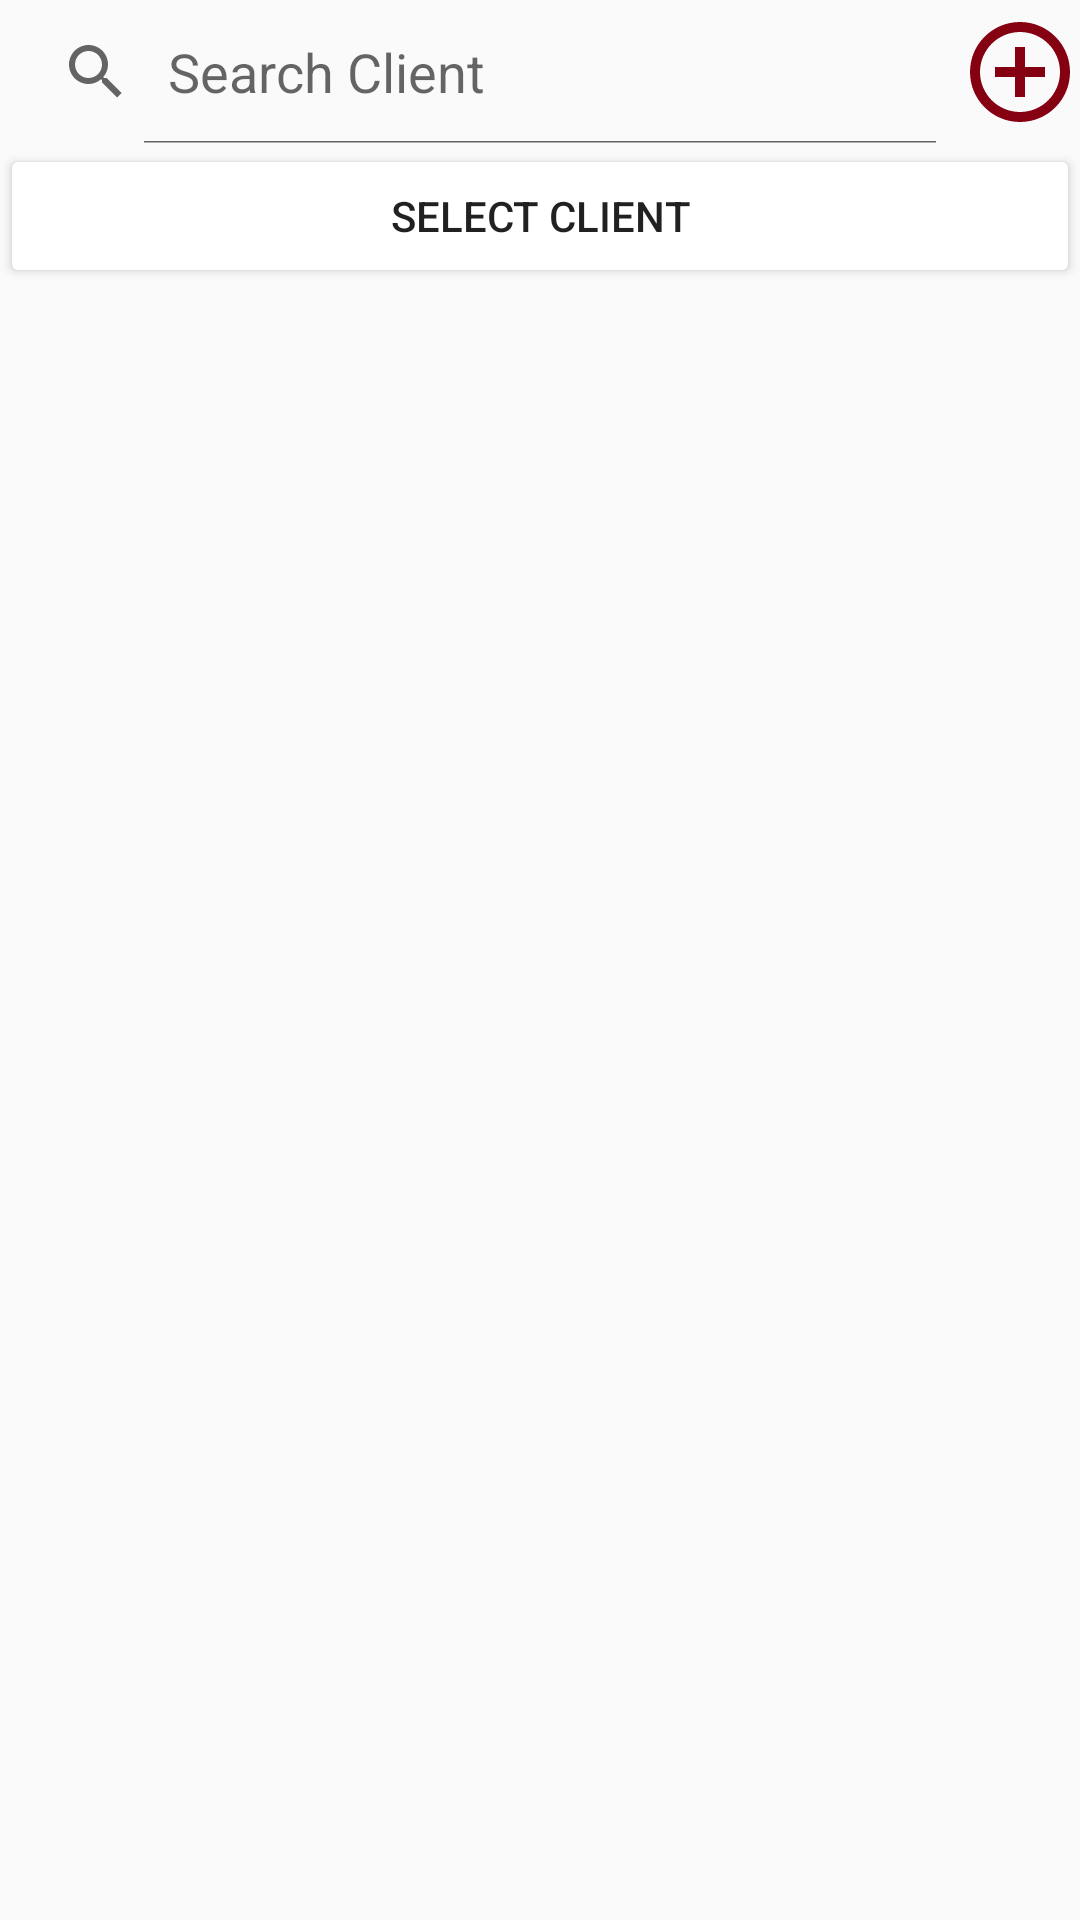

Screen size 1080 x 1920. Icon name, then its box in pixels as detection(x1, y1, x2, y2):
add circle: detection(970, 22, 1070, 122)
